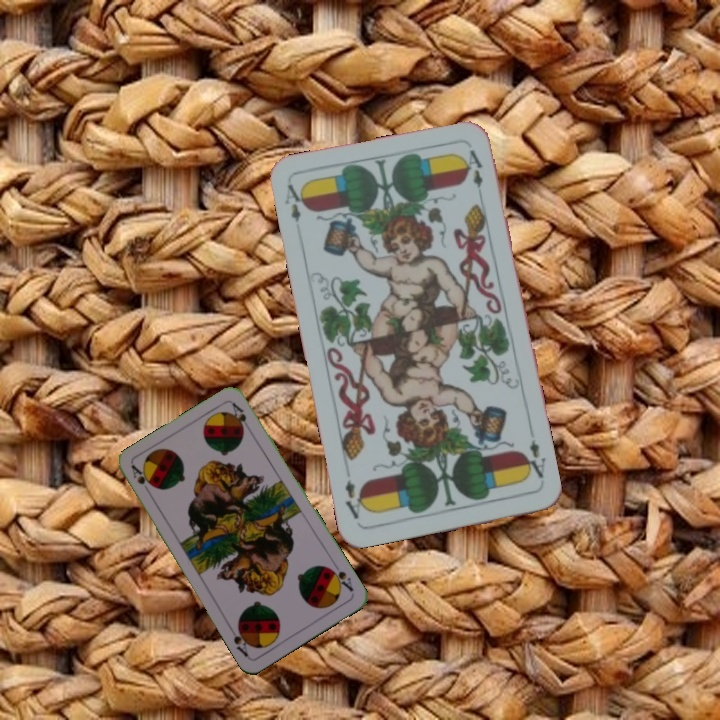EA: (281, 180, 310, 238), (519, 436, 548, 481)
SA: (128, 461, 155, 499), (324, 563, 356, 594)
